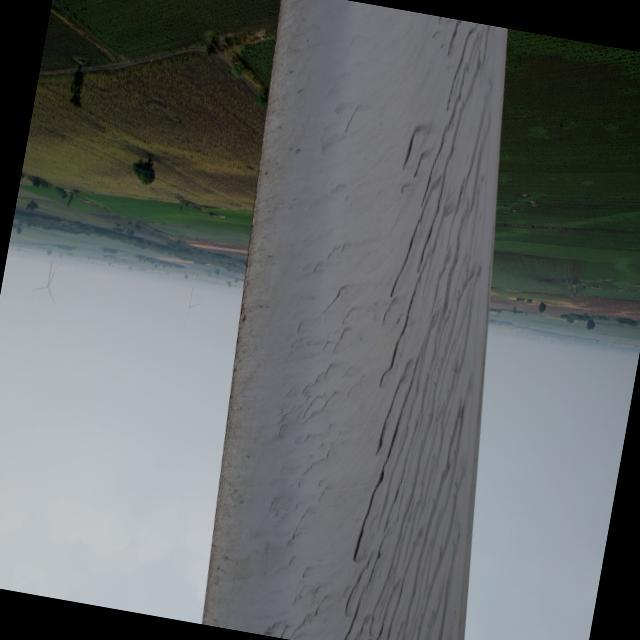Dirt: (200, 0, 508, 640)
